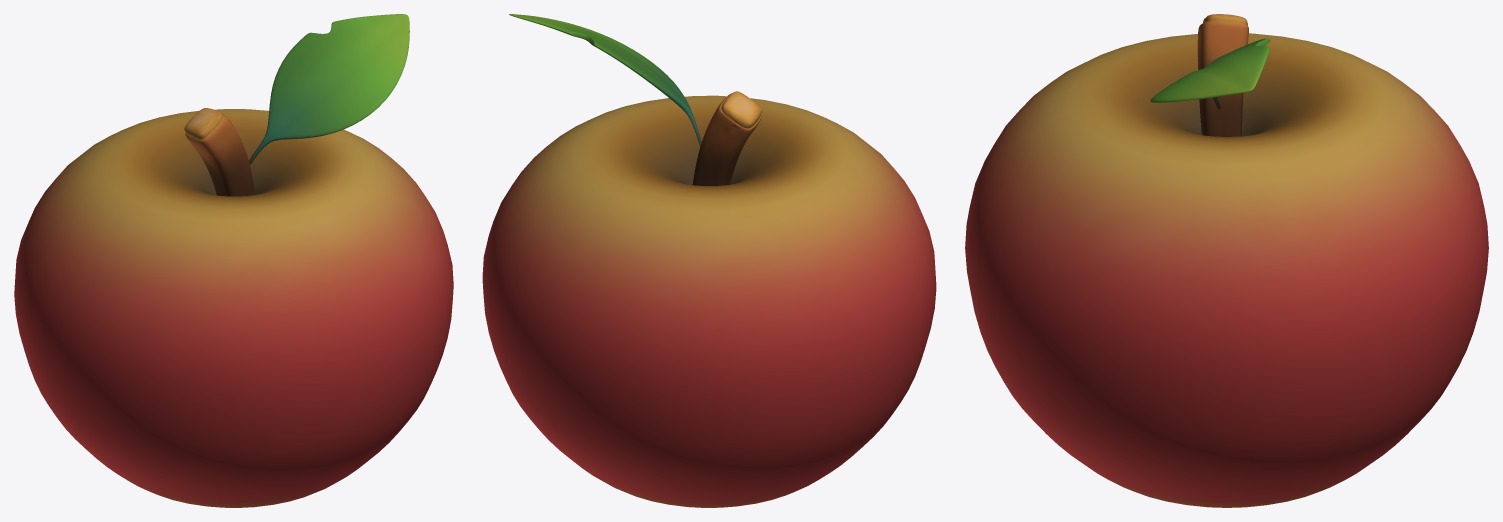
3 views of the same model, side by side, from view 1: azimuth 30°, elevation 25°; view 2: azimuth 150°, elevation 25°; view 3: azimuth 270°, elevation 25° (orthographic). The views are drawn at different scales.
Visible parts, largest first — view 1: Merged_Apple8_Merged; view 2: Merged_Apple8_Merged; view 3: Merged_Apple8_Merged.
Part boxes in pixels (x1=…): Merged_Apple8_Merged: x1=14, y1=14, x2=453, y2=507; Merged_Apple8_Merged: x1=482, y1=14, x2=936, y2=507; Merged_Apple8_Merged: x1=965, y1=14, x2=1488, y2=507.
Size of the model in its own units: 1.33 by 1.35 by 1.32.
